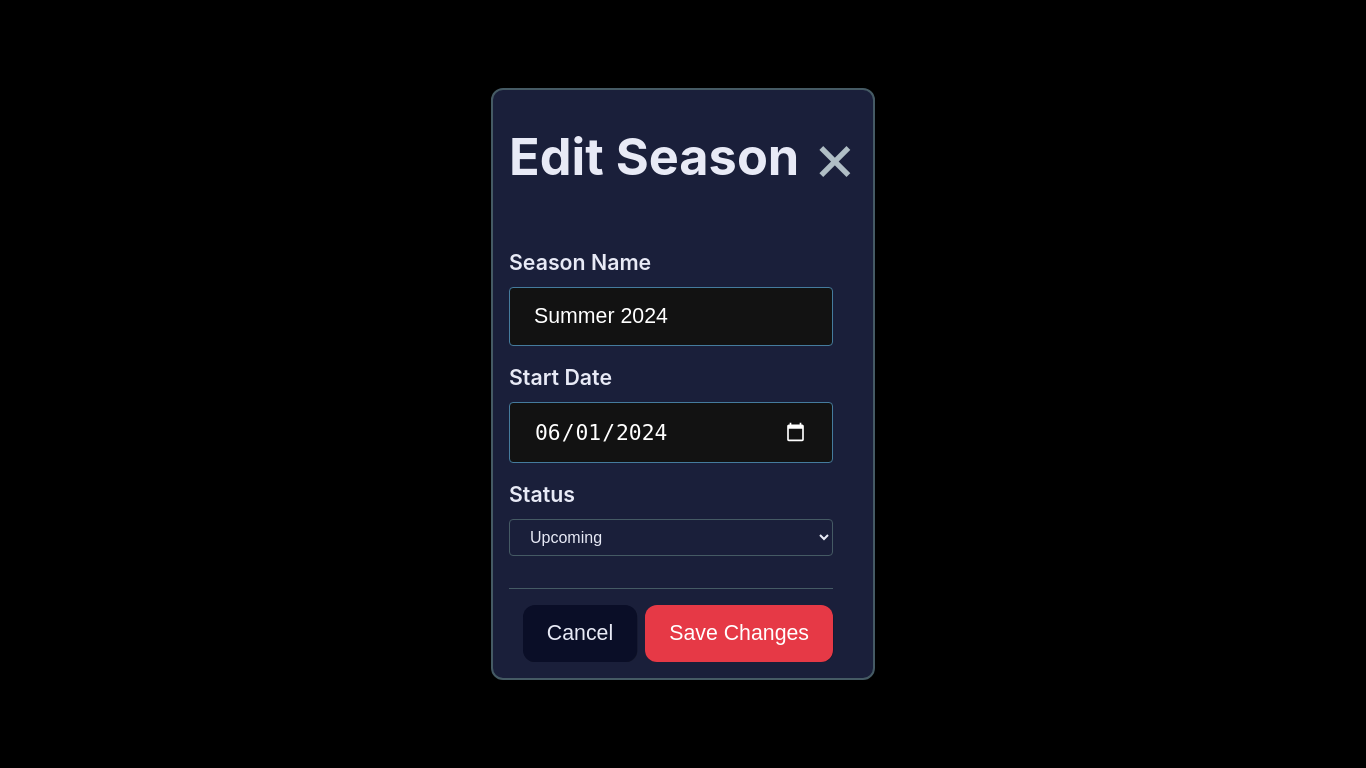
EditSeasonModal Component › shows hint text when status is set to archived and season has no end date
The image size is (1366, 768).
Select "Archived" in the dropdown: (671, 538) top-left (509, 519), bottom-right (833, 556)
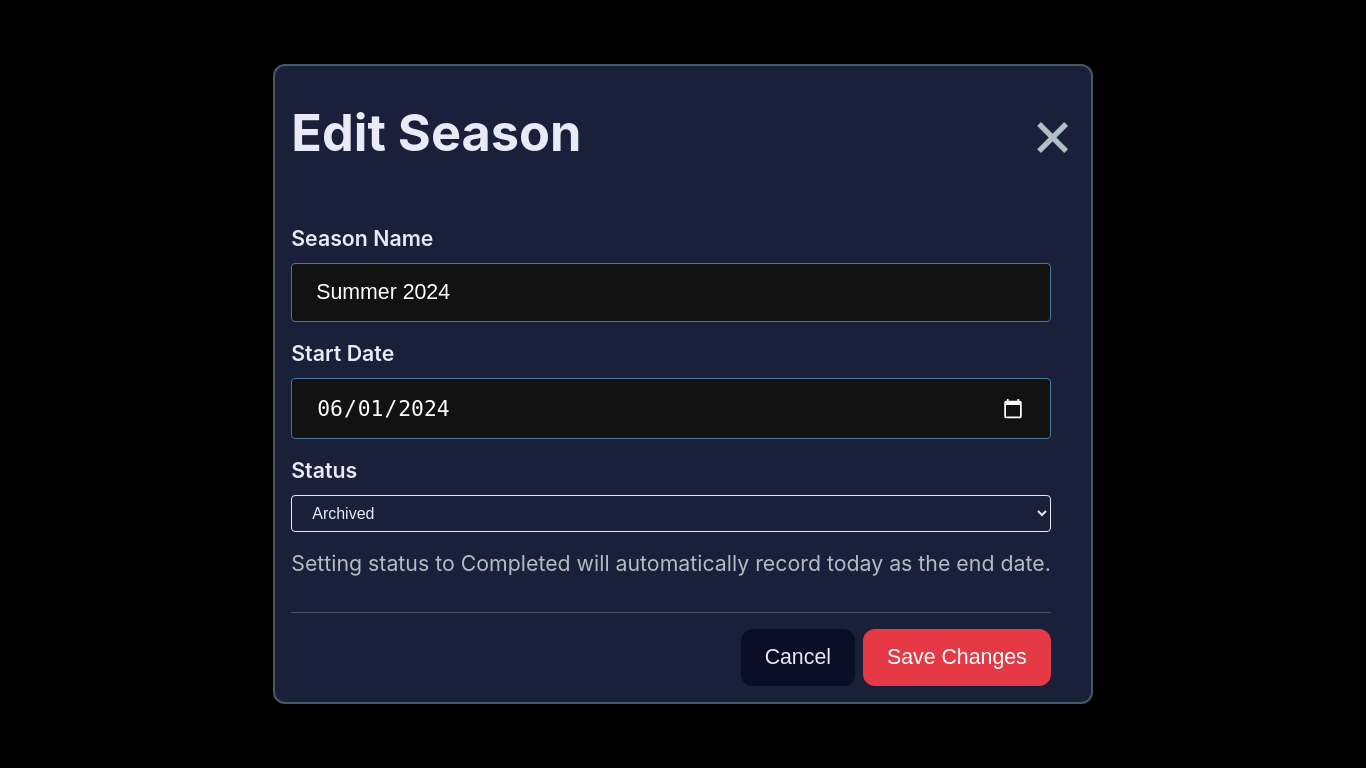
Expected: the text "Setting status to Completed will automatically record today" is shown, top-left (291, 550), bottom-right (1051, 576)
